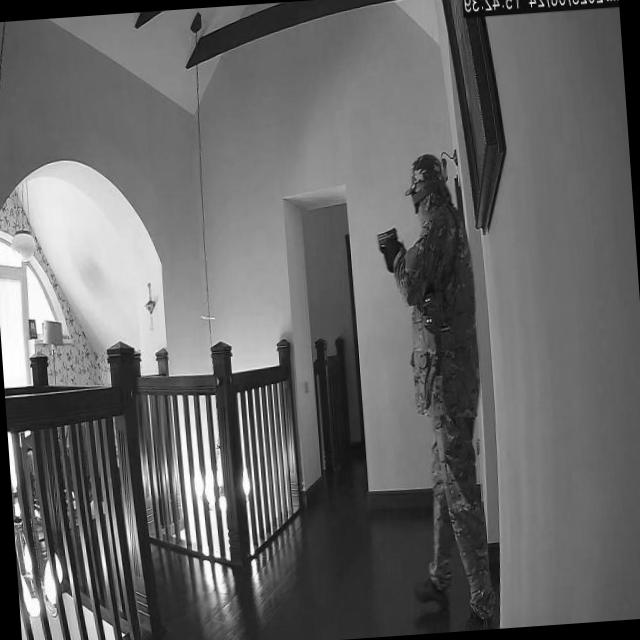gun: (376, 225, 401, 262)
person with a gun: (386, 146, 500, 634)
